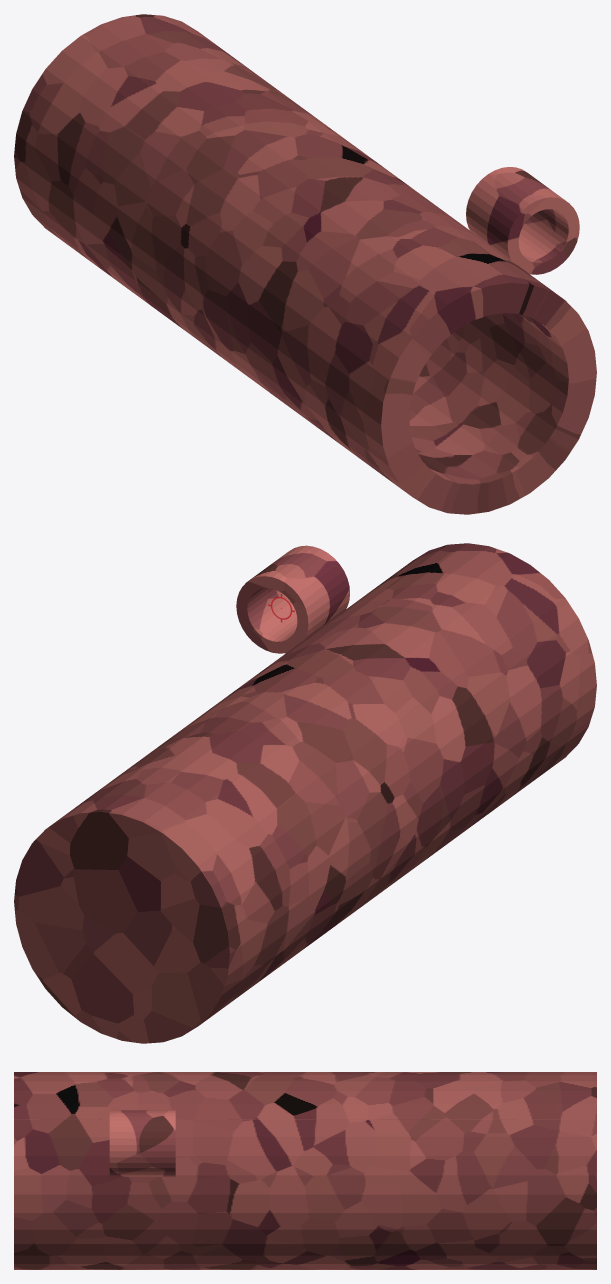
Rendered from cubecannon.glb.
3 renders of one model, top to bottom at view 1: azimuth 30°, elevation 25°; view 2: azimuth 150°, elevation 25°; view 3: azimuth 270°, elevation 25°, orthographic. The views are drawn at different scales.
Parts seen in each view (by area): view 1: cannon, scope; view 2: cannon, scope; view 3: cannon, scope.
Part boxes in pixels (box(x1,y1,x2,y2)): cannon: box(14, 14, 596, 514); scope: box(466, 167, 579, 274); cannon: box(14, 543, 596, 1043); scope: box(236, 545, 349, 653); cannon: box(14, 1072, 596, 1269); scope: box(109, 1110, 175, 1176).
Size of the model in its own units: 3.76 by 3.35 by 9.24.
3 materials, 3 textured.
